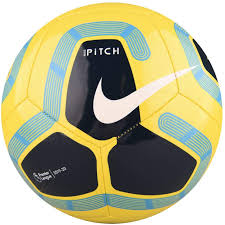football: (1, 1, 225, 224)
